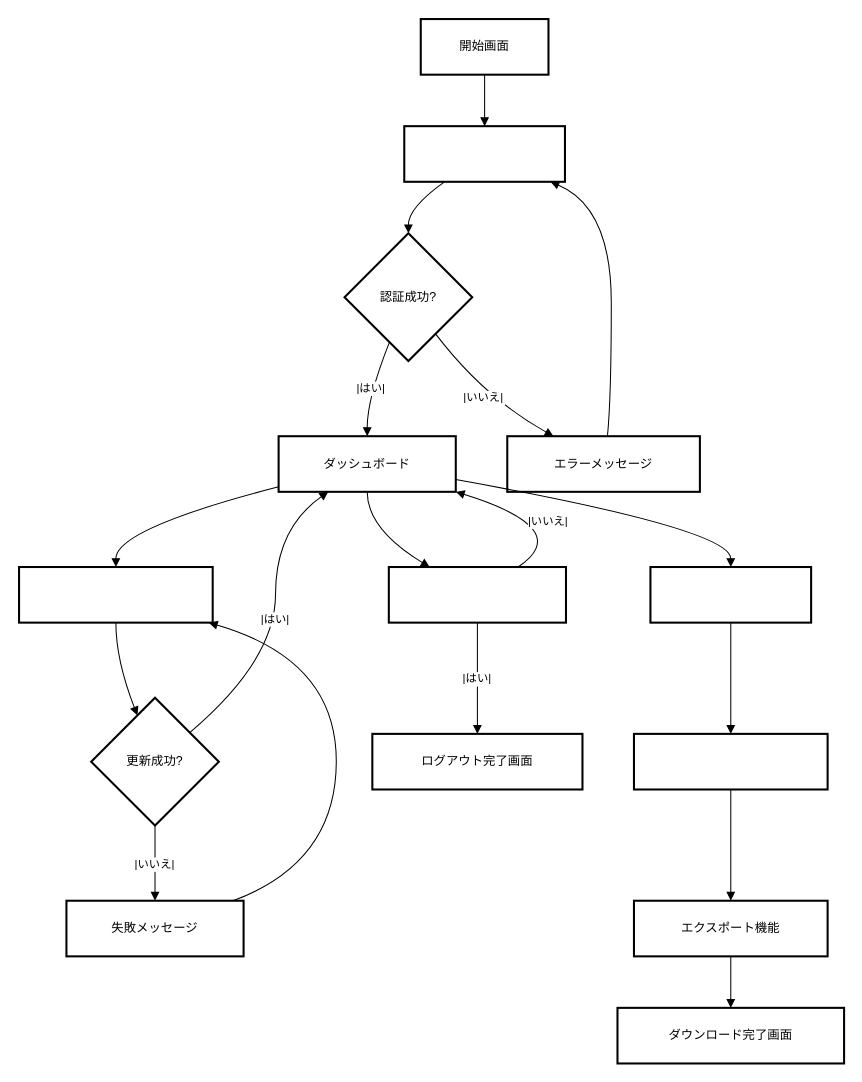
This 862x1082 diagram has some shape labels left out. The box of each missing label's shape, as (x1, y1, x2, y2) in pixels:
ユーザー設定画面: (18, 565, 213, 623)
レポート画面: (649, 565, 812, 623)
レポート詳細画面: (632, 732, 828, 790)
ログアウト確認: (387, 565, 566, 623)
ログイン画面: (403, 125, 565, 182)
